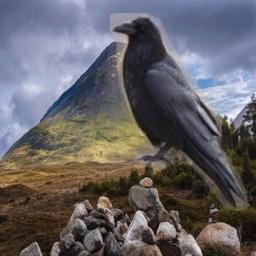Crow: (110, 13, 248, 211)
